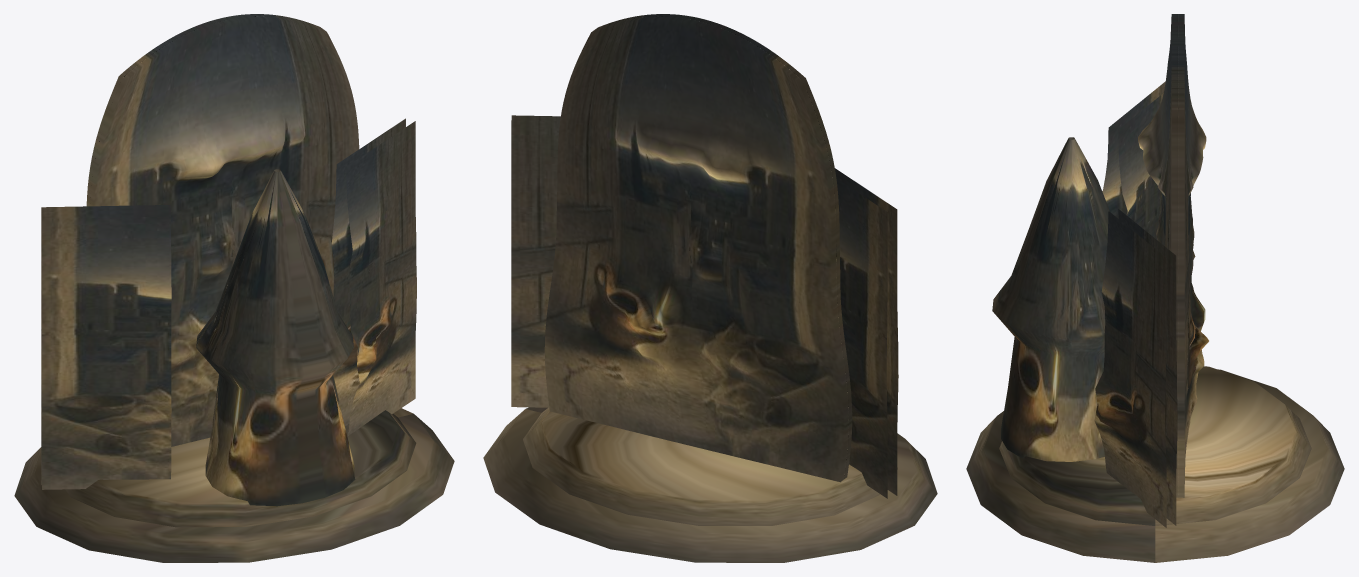
Rendered from children-of-the-day-21.glb.
3 renders of one model, left to right at view 1: azimuth 30°, elevation 25°; view 2: azimuth 150°, elevation 25°; view 3: azimuth 270°, elevation 25°, orthographic. The views are drawn at different scales.
Parts seen in each view (by area): view 1: PaintingSculptureMonument; view 2: PaintingSculptureMonument; view 3: PaintingSculptureMonument.
Boxes of the visible parts, x1=… form: PaintingSculptureMonument: x1=14, y1=14, x2=454, y2=562; PaintingSculptureMonument: x1=483, y1=14, x2=937, y2=562; PaintingSculptureMonument: x1=966, y1=14, x2=1344, y2=562.
Size of the model in its own units: 2.76 by 2.99 by 2.35.
Materials: 1 (1 with a texture image).
